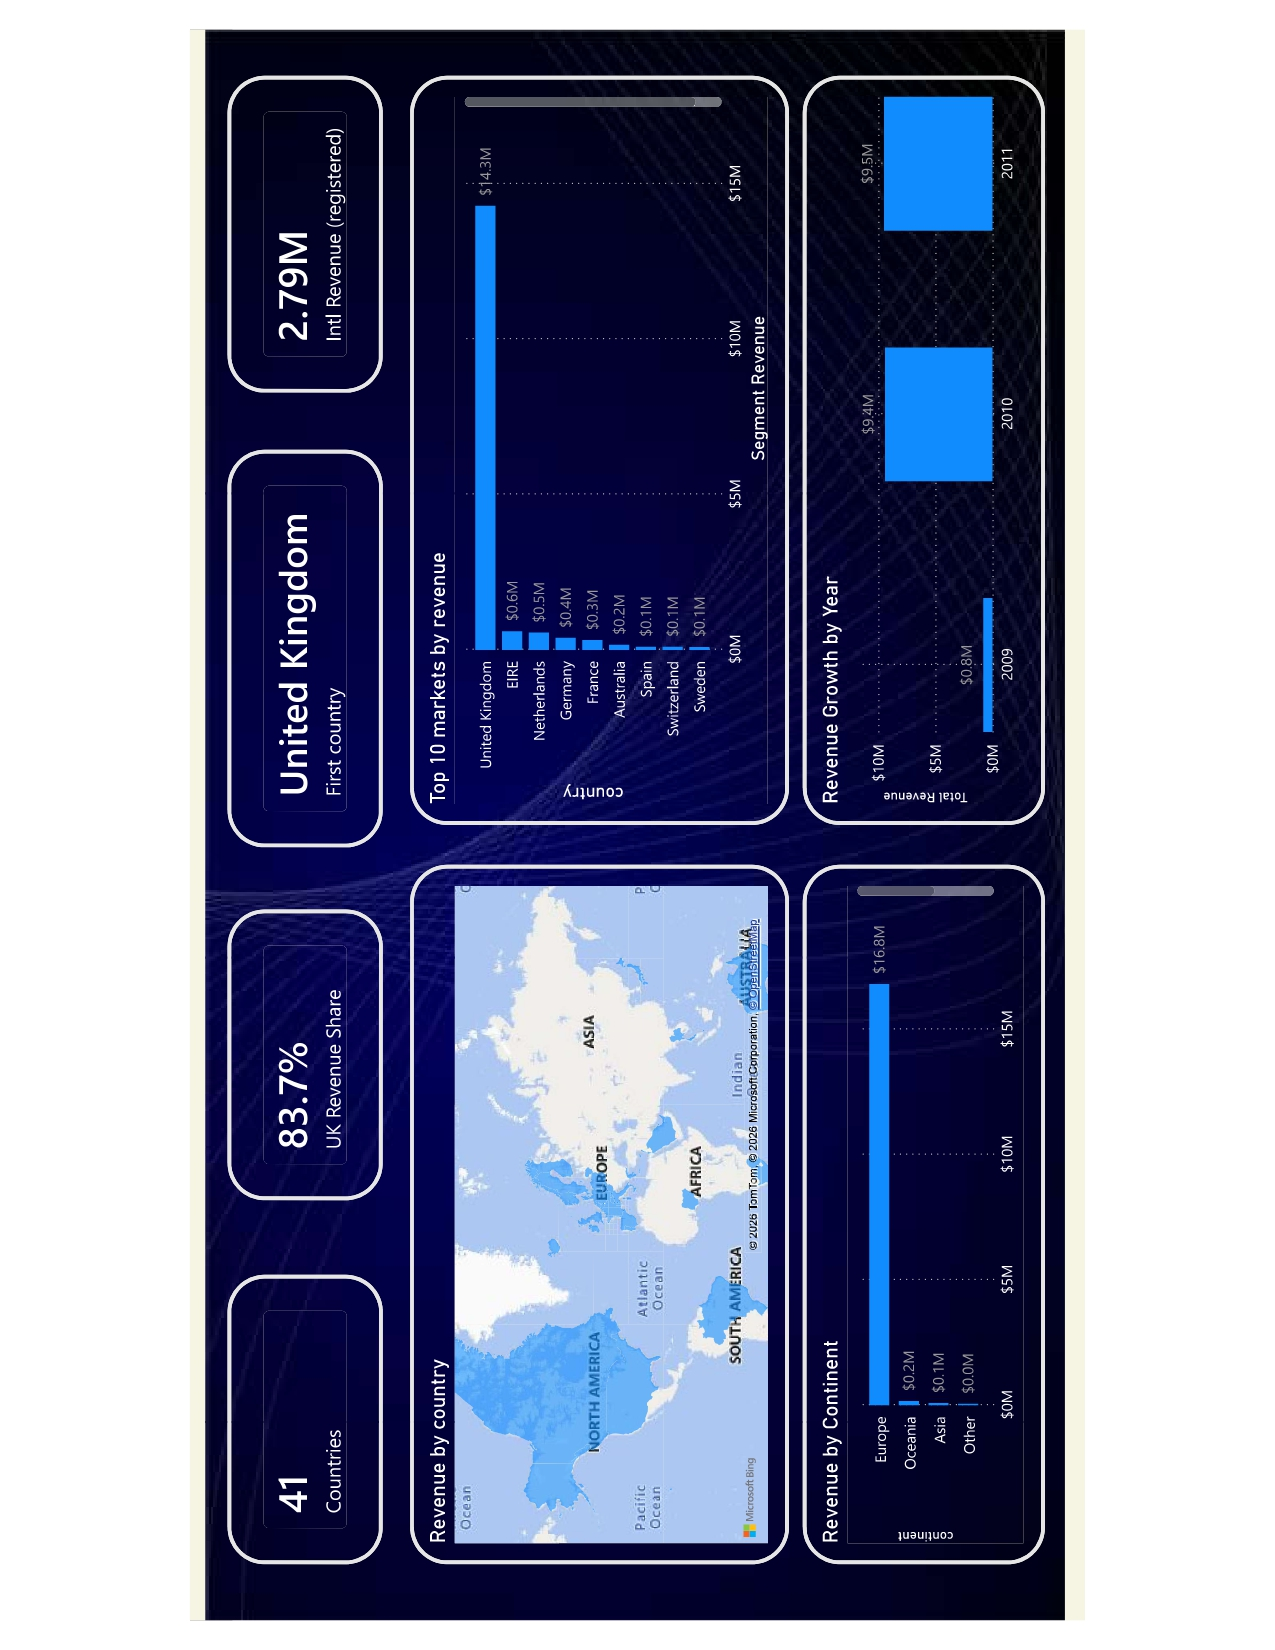

This screenshot's page, from the dashboard's own definition file:
{"tool":"powerbi","page":{"name":"Geographic performance","canvas":[1280,720],"ordinal":2},"visuals":[{"type":"cardVisual","fields":{"Data":["Customer Segments.Countries"]},"box":[45,30,233.3,125],"z":0},{"type":"cardVisual","fields":{"Data":["Customer Segments.UK Revenue Share"]},"box":[338.3,30,233.3,125],"z":1000},{"type":"cardVisual","title":"Top country by revenue","fields":{"Data":["Min(Customer Segments.country)"]},"box":[621.7,30,320,125],"z":2000},{"type":"filledMap","title":"Revenue by country","fields":{"Category":["Customer Segments.country"]},"box":[45,176.7,563.3,305],"z":3000},{"type":"barChart","title":"Top 10 markets by revenue","fields":{"Category":["Customer Segments.country"],"Y":["_Measures.Segment Revenue"]},"box":[640,176.7,603.3,305],"z":4000},{"type":"clusteredBarChart","title":"Revenue by Continent","fields":{"Category":["CountryContinent.continent"],"Y":["_Measures.Segment Revenue"]},"box":[45,493.3,563.3,195],"z":5000},{"type":"clusteredColumnChart","title":"Revenue Growth by Year","fields":{"Category":["Revenue Timeline.order_year"],"Y":["_Measures.Total Revenue"]},"box":[640,493.3,603.3,195],"z":6000},{"type":"cardVisual","fields":{"Data":["Customer Segments.Intl Revenue"]},"box":[988.3,30,255,125],"z":7000}]}

Visuals, with their boxes on the page's 1280x720 design canvas (x1, y1, x2, y2). These are canvas units, not pixel positions in the 1275x1650 screenshot, which may show the page scaled, cropped or inside an application window:
cardVisual - Customer Segments.Countries: (x1=45, y1=30, x2=278, y2=155)
cardVisual - Customer Segments.UK Revenue Share: (x1=338, y1=30, x2=572, y2=155)
"Top country by revenue" cardVisual: (x1=622, y1=30, x2=942, y2=155)
"Revenue by country" filledMap: (x1=45, y1=177, x2=608, y2=482)
"Top 10 markets by revenue" barChart: (x1=640, y1=177, x2=1243, y2=482)
"Revenue by Continent" clusteredBarChart: (x1=45, y1=493, x2=608, y2=688)
"Revenue Growth by Year" clusteredColumnChart: (x1=640, y1=493, x2=1243, y2=688)
cardVisual - Customer Segments.Intl Revenue: (x1=988, y1=30, x2=1243, y2=155)
